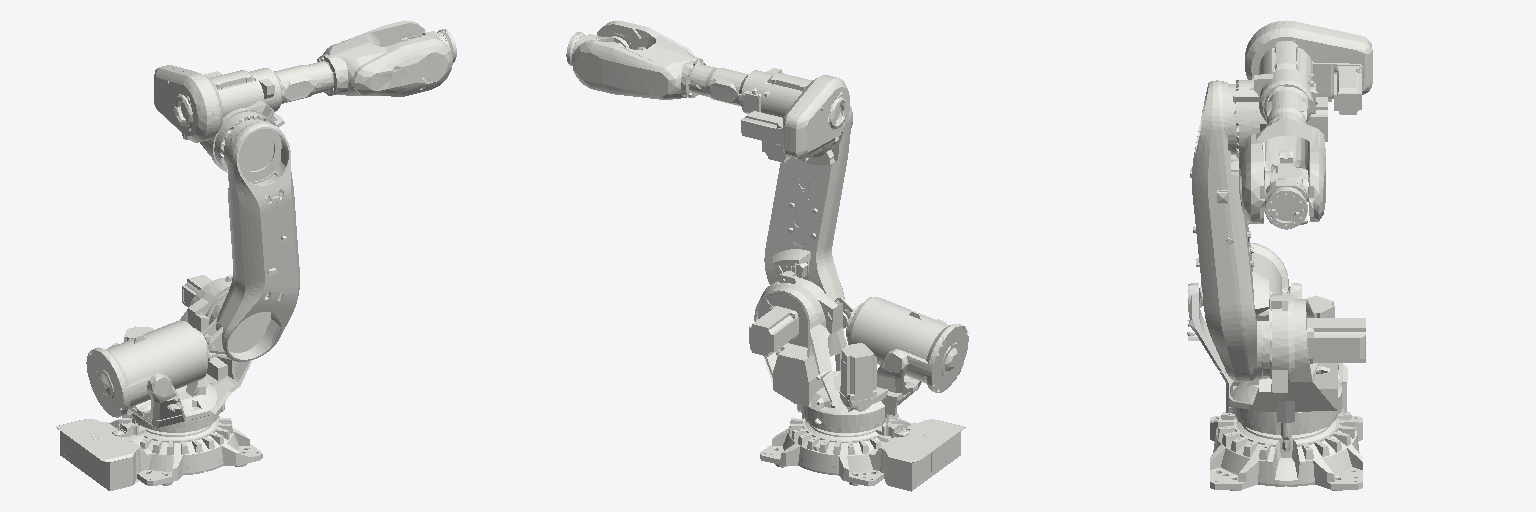
robot.urdf — abb_irb6700_300_270:
<?xml version="1.0" ?>
<!-- =================================================================================== -->
<!-- |    This document was autogenerated by xacro from irb6700_300_270.xacro          | -->
<!-- |    EDITING THIS FILE BY HAND IS NOT RECOMMENDED                                 | -->
<!-- =================================================================================== -->
<robot name="abb_irb6700_300_270">
  <transform tf_rb_ub="0.0 0.0 0.0 0.0 0.0 0.0 1.0" tf_rf_uf="0.0 0.0 0.0 0.0 0.0 0.0 1.0">
  </transform>
  <constraint coeff="0.0 0.0 0.0 1.0 0.0 0.0" lower_bound="0.0" upper_bound="0.0"/>
  <constraint coeff="0.0 1.0 1.0 0.0 1.0 0.0" lower_bound="1.5707963267948966" upper_bound="1.5707963267948966"/>
  <!-- Conversion were obtained from http://www.e-paint.co.uk/Lab_values.asp
       unless otherwise stated. -->
  <!-- link list -->
  <link name="base_link">
    <visual>
      <origin rpy="0 0 0" xyz="0 0 0"/>
      <geometry>
        <mesh filename="package://abb_irb6700_support/meshes/irb6700_300_270/visual/base_link.stl"/>
      </geometry>
      <material name="">
        <color rgba="0.9254902 0.9254902 0.9058824 1"/>
      </material>
    </visual>
    <collision>
      <origin rpy="0 0 0" xyz="0 0 0"/>
      <geometry>
        <mesh filename="package://abb_irb6700_support/meshes/irb6700_300_270/collision/base_link.stl"/>
      </geometry>
      <material name="">
        <color rgba="1 1 0 1"/>
      </material>
    </collision>
  </link>
  <link name="link_1">
    <visual>
      <origin rpy="0 0 0" xyz="0 0 -0.78"/>
      <geometry>
        <mesh filename="package://abb_irb6700_support/meshes/irb6700_300_270/visual/link_1.stl"/>
      </geometry>
      <material name="">
        <color rgba="0.9254902 0.9254902 0.9058824 1"/>
      </material>
    </visual>
    <collision>
      <origin rpy="0 0 0" xyz="0 0 -0.78"/>
      <geometry>
        <mesh filename="package://abb_irb6700_support/meshes/irb6700_300_270/collision/link_1.stl"/>
      </geometry>
      <material name="">
        <color rgba="1 1 0 1"/>
      </material>
    </collision>
  </link>
  <link name="link_2">
    <visual>
      <origin rpy="0 0 0" xyz="-0.35 0 -0.78"/>
      <geometry>
        <mesh filename="package://abb_irb6700_support/meshes/irb6700_300_270/visual/link_2.stl"/>
      </geometry>
      <material name="">
        <color rgba="0.9254902 0.9254902 0.9058824 1"/>
      </material>
    </visual>
    <collision>
      <origin rpy="0 0 0" xyz="-0.35 0 -0.78"/>
      <geometry>
        <mesh filename="package://abb_irb6700_support/meshes/irb6700_300_270/collision/link_2.stl"/>
      </geometry>
      <material name="">
        <color rgba="1 1 0 1"/>
      </material>
    </collision>
  </link>
  <link name="link_3">
    <visual>
      <origin rpy="0 0 0" xyz="-0.35 0 -1.925"/>
      <geometry>
        <mesh filename="package://abb_irb6700_support/meshes/irb6700_300_270/visual/link_3.stl"/>
      </geometry>
      <material name="">
        <color rgba="0.9254902 0.9254902 0.9058824 1"/>
      </material>
    </visual>
    <collision>
      <origin rpy="0 0 0" xyz="-0.35 0 -1.925"/>
      <geometry>
        <mesh filename="package://abb_irb6700_support/meshes/irb6700_300_270/collision/link_3.stl"/>
      </geometry>
      <material name="">
        <color rgba="1 1 0 1"/>
      </material>
    </collision>
  </link>
  <link name="link_4">
    <visual>
      <origin rpy="0 0 0" xyz="-0.35 0 -2.125"/>
      <geometry>
        <mesh filename="package://abb_irb6700_support/meshes/irb6700_300_270/visual/link_4.stl"/>
      </geometry>
      <material name="">
        <color rgba="0.9254902 0.9254902 0.9058824 1"/>
      </material>
    </visual>
    <collision>
      <origin rpy="0 0 0" xyz="-0.35 0 -2.125"/>
      <geometry>
        <mesh filename="package://abb_irb6700_support/meshes/irb6700_300_270/collision/link_4.stl"/>
      </geometry>
      <material name="">
        <color rgba="1 1 0 1"/>
      </material>
    </collision>
  </link>
  <link name="link_5">
    <visual>
      <origin rpy="0 0 0" xyz="-1.5625 0 -2.125"/>
      <geometry>
        <mesh filename="package://abb_irb6700_support/meshes/irb6700_300_270/visual/link_5.stl"/>
      </geometry>
      <material name="">
        <color rgba="0.9254902 0.9254902 0.9058824 1"/>
      </material>
    </visual>
    <collision>
      <origin rpy="0 0 0" xyz="-1.5625 0 -2.125"/>
      <geometry>
        <mesh filename="package://abb_irb6700_support/meshes/irb6700_300_270/collision/link_5.stl"/>
      </geometry>
      <material name="">
        <color rgba="1 1 0 1"/>
      </material>
    </collision>
  </link>
  <link name="link_6">
    <visual>
      <origin rpy="3.141592653589793 -1.5707963267948966 0" xyz="-2.125 0 -1.7825"/>
      <geometry>
        <mesh filename="package://abb_irb6700_support/meshes/irb6700_300_270/visual/link_6.stl"/>
      </geometry>
      <material name="">
        <color rgba="0.9254902 0.9254902 0.9058824 1"/>
      </material>
    </visual>
    <collision>
      <origin rpy="3.141592653589793 -1.5707963267948966 0" xyz="-2.125 0 -1.7825"/>
      <geometry>
        <mesh filename="package://abb_irb6700_support/meshes/irb6700_300_270/collision/link_6.stl"/>
      </geometry>
      <material name="">
        <color rgba="1 1 0 1"/>
      </material>
    </collision>
  </link>
  <joint name="joint1" type="revolute">
    <origin rpy="0 0 0" xyz="0 0 0.78"/>
    <parent link="base_link"/>
    <child link="link_1"/>
    <axis xyz="0 0 1"/>
    <limit effort="0" lower="-2.9670597283903604" upper="2.9670597283903604" velocity="1.7453292519943295"/>
  </joint>
  <joint name="joint2" type="revolute">
    <origin rpy="0 0 0" xyz="0.35 0 0"/>
    <parent link="link_1"/>
    <child link="link_2"/>
    <axis xyz="0 1 0"/>
    <limit effort="0" lower="-1.1344640137963142" upper="1.4835298641951802" velocity="1.53588974175501"/>
  </joint>
  <joint name="joint3" type="revolute">
    <origin rpy="0 0 0" xyz="0 0 1.145"/>
    <parent link="link_2"/>
    <child link="link_3"/>
    <axis xyz="0 1 0"/>
    <limit effort="0" lower="-3.141592653589793" upper="1.2042771838760873" velocity="1.5707963267948966"/>
  </joint>
  <joint name="joint4" type="revolute">
    <origin rpy="0 0 0" xyz="0 0 0.2"/>
    <parent link="link_3"/>
    <child link="link_4"/>
    <axis xyz="1 0 0"/>
    <limit effort="0" lower="-5.235987755982989" upper="5.235987755982989" velocity="2.443460952792061"/>
  </joint>
  <joint name="joint5" type="revolute">
    <origin rpy="0 0 0" xyz="1.2125 0 0"/>
    <parent link="link_4"/>
    <child link="link_5"/>
    <axis xyz="0 1 0"/>
    <limit effort="0" lower="-2.2689280275926285" upper="2.2689280275926285" velocity="1.9198621771937625"/>
  </joint>
  <joint name="joint6" type="revolute">
    <origin rpy="0 1.5707963267948966 0" xyz="0.22 0 0"/>
    <parent link="link_5"/>
    <child link="link_6"/>
    <axis xyz="0 0 1"/>
    <limit effort="0" lower="-6.283185307179586" upper="6.283185307179586" velocity="3.141592653589793"/>
  </joint>
</robot>

--- Facts derived from the render (not from the file) ---
The picture shows the robot from 3 angles, left to right: view 1: azimuth 30°, elevation 25°; view 2: azimuth 150°, elevation 25°; view 3: azimuth 270°, elevation 25°; orthographic projection.
Robot: abb_irb6700_300_270 — 7 links, 6 joints (6 revolute); root link base_link; default pose: every joint at zero.
Links seen in each view (by area): view 1: link_2, link_1, base_link, link_4, link_3; view 2: link_1, base_link, link_2, link_4, link_3; view 3: link_1, link_2, link_3, base_link, link_4, link_6, link_5.
Link boxes in pixels (x1,y1,x2,y2): link_2: [202, 120, 299, 361]; link_1: [86, 275, 251, 432]; base_link: [56, 414, 262, 490]; link_4: [181, 20, 452, 119]; link_3: [154, 65, 284, 172]; link_1: [749, 271, 968, 432]; base_link: [760, 413, 965, 491]; link_2: [764, 106, 853, 328]; link_4: [572, 20, 840, 121]; link_3: [739, 68, 849, 162]; link_1: [1187, 243, 1365, 449]; link_2: [1190, 80, 1269, 381]; link_3: [1228, 20, 1372, 158]; base_link: [1210, 363, 1362, 490]; link_4: [1239, 86, 1325, 223]; link_6: [1265, 189, 1307, 228]; link_5: [1265, 164, 1307, 229].
Bounding box of the posed robot: 2.41 × 0.8699 × 2.32 m (x, y, z).
7 mesh visuals loaded from 7 distinct referenced files (7 binary STL).